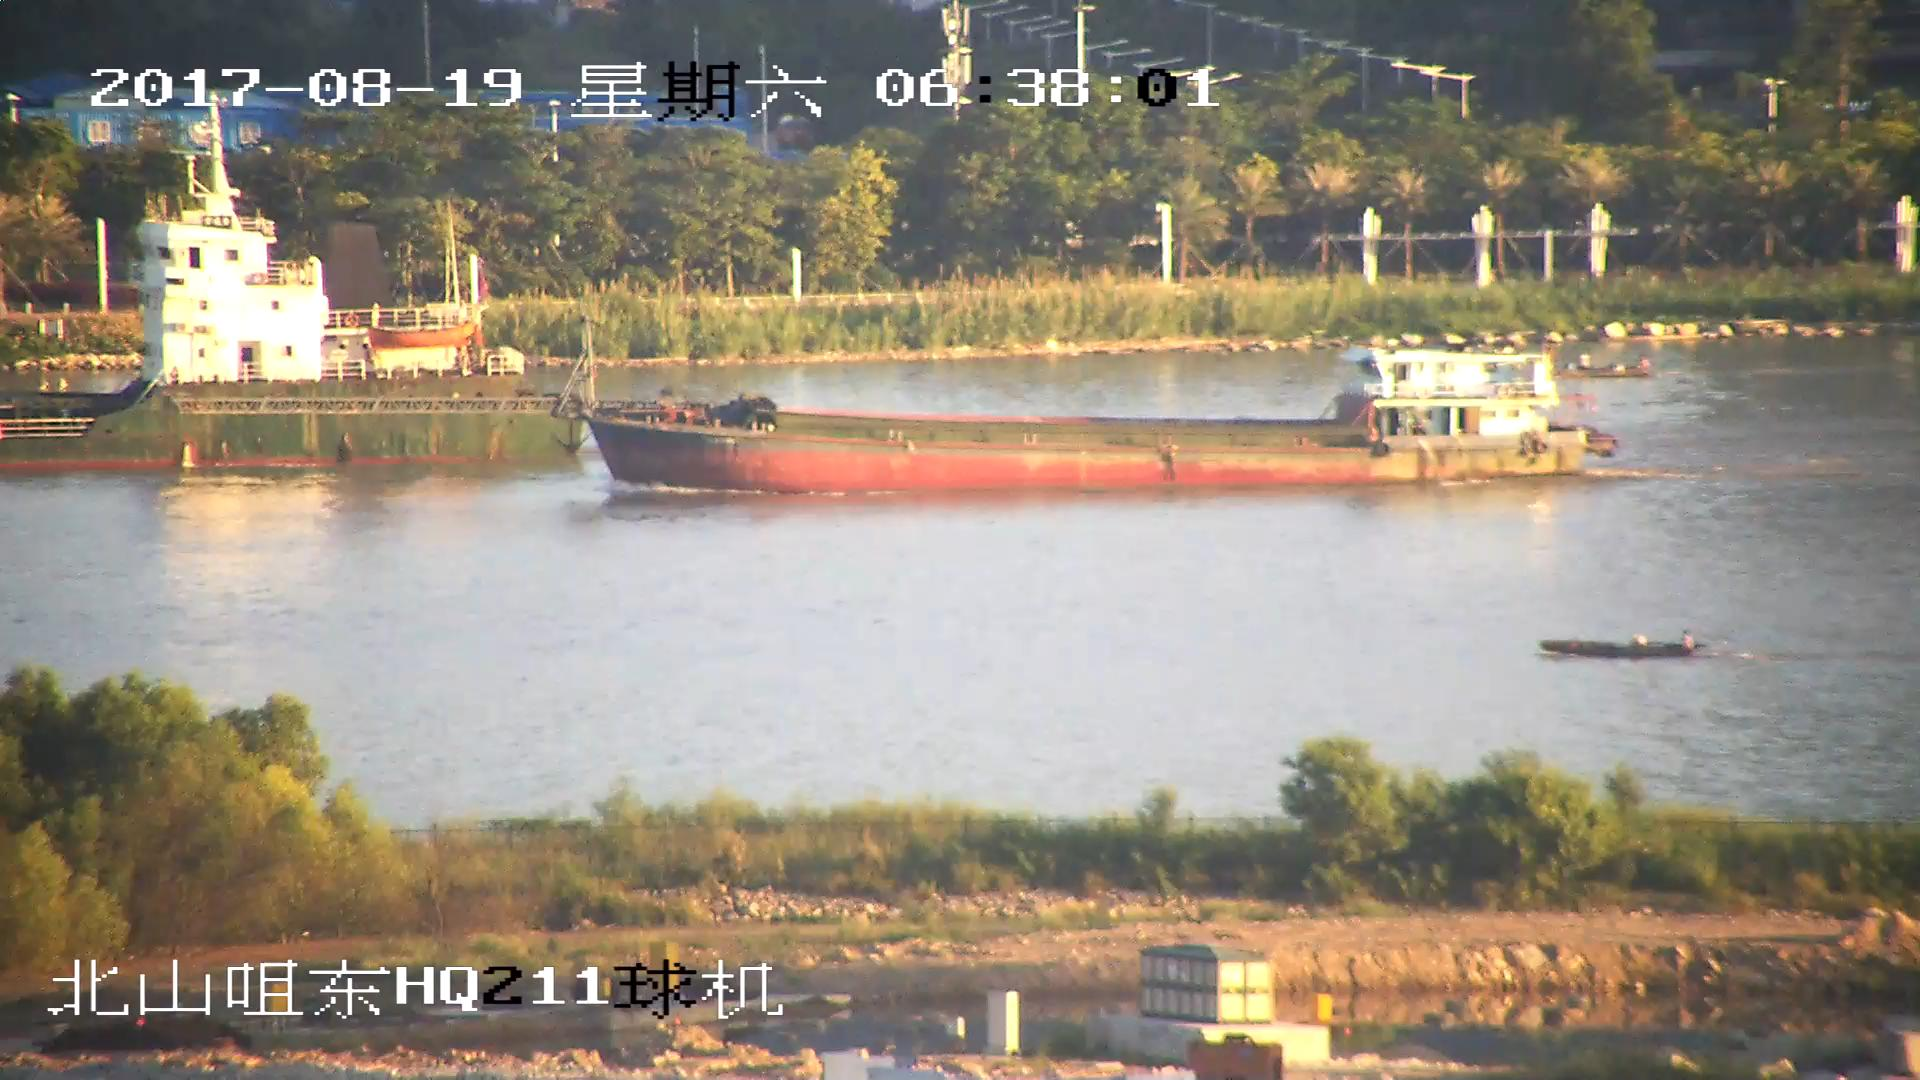bulk cargo carrier: (572, 329, 1590, 479)
fishing boat: (1544, 629, 1714, 664), (1574, 356, 1657, 384)
general cargo ship: (1, 112, 559, 462)
